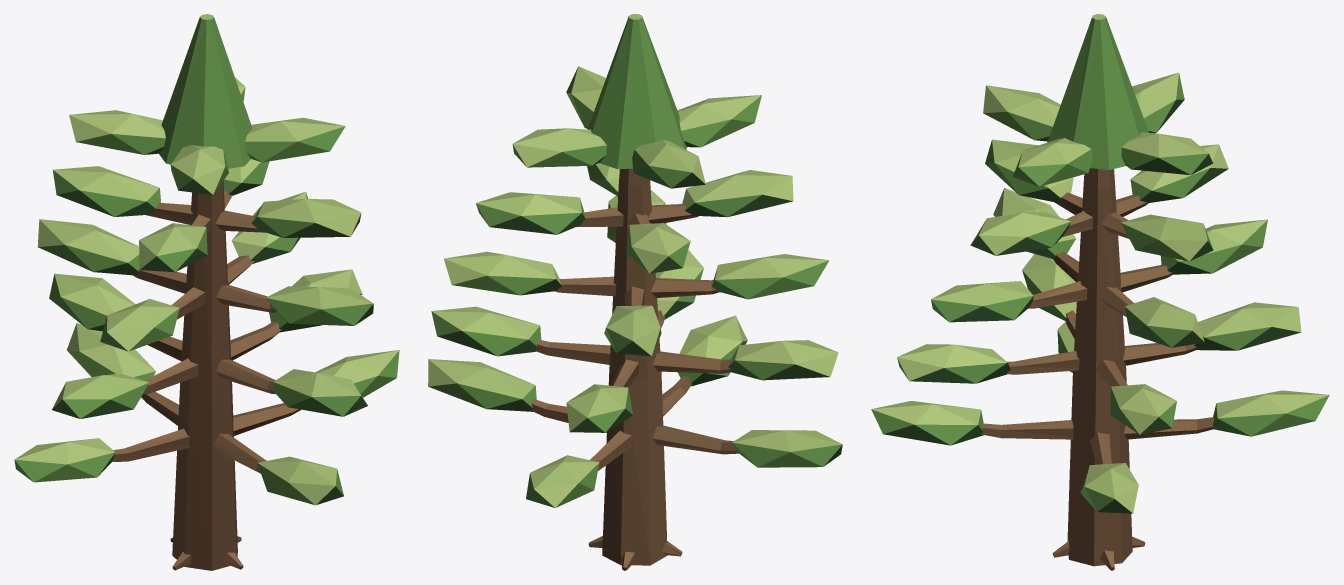
3 renders of one model, left to right at view 1: azimuth 30°, elevation 25°; view 2: azimuth 150°, elevation 25°; view 3: azimuth 270°, elevation 25°, orthographic.
Visible parts, largest first — view 1: WK_Tree_Fir_AlpineLime_LOD0_High; view 2: WK_Tree_Fir_AlpineLime_LOD0_High; view 3: WK_Tree_Fir_AlpineLime_LOD0_High.
Part boxes in pixels (x1=…): WK_Tree_Fir_AlpineLime_LOD0_High: x1=14, y1=14, x2=399, y2=570; WK_Tree_Fir_AlpineLime_LOD0_High: x1=428, y1=14, x2=842, y2=570; WK_Tree_Fir_AlpineLime_LOD0_High: x1=871, y1=14, x2=1329, y2=570.
Bounding box in the file's own units: 5.27 × 6.77 × 5.26.
